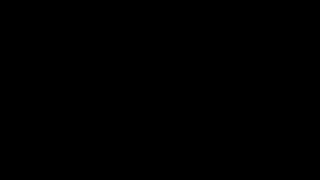go_ahead: (210, 47, 233, 68)
